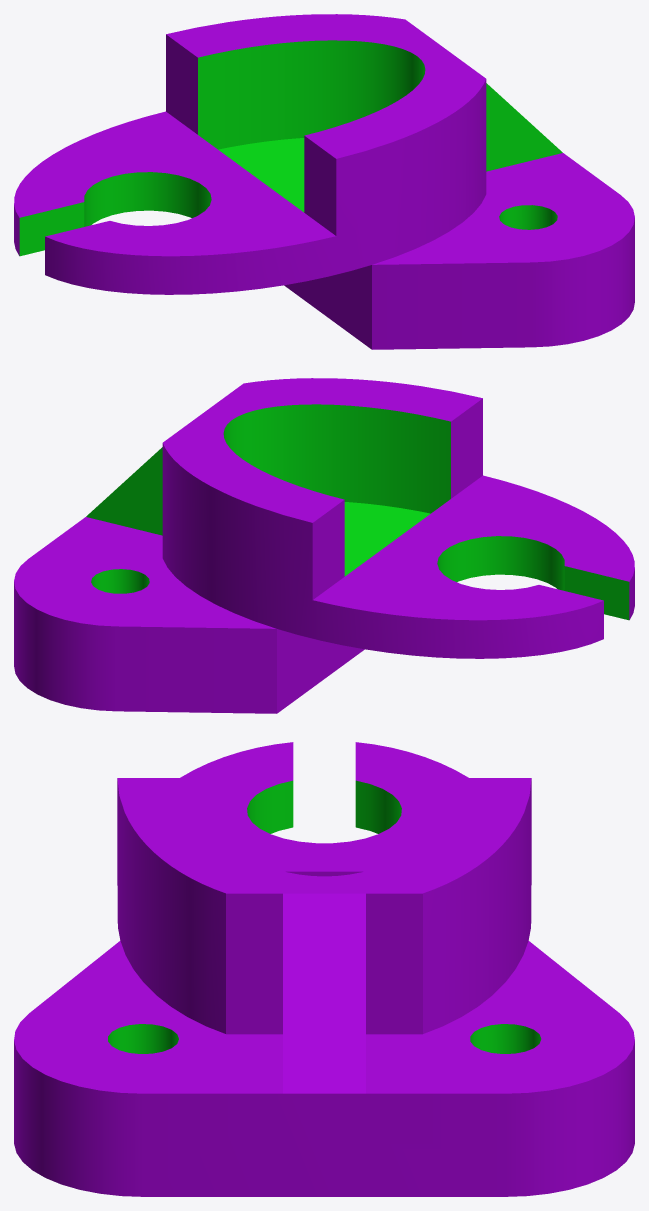
The model's file is tut3qn2c.glb.
3 renders of one model, top to bottom at view 1: azimuth 30°, elevation 25°; view 2: azimuth 150°, elevation 25°; view 3: azimuth 270°, elevation 25°, orthographic. The views are drawn at different scales.
Parts seen in each view (by area): view 1: tut3qn2c; view 2: tut3qn2c; view 3: tut3qn2c.
Part boxes in pixels (x1=…): tut3qn2c: x1=14, y1=14, x2=634, y2=349; tut3qn2c: x1=14, y1=378, x2=634, y2=713; tut3qn2c: x1=14, y1=742, x2=634, y2=1196.
Size of the model in its own units: 13.93 by 5.2 by 12.
